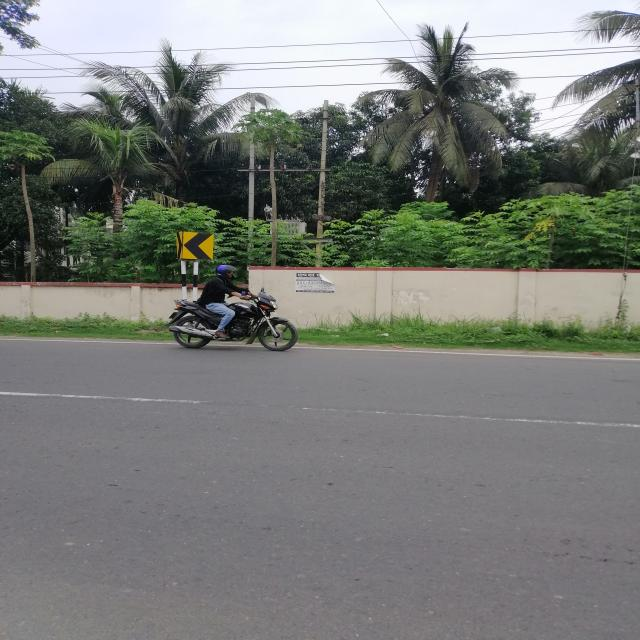Motorbike: (168, 285, 302, 359)
